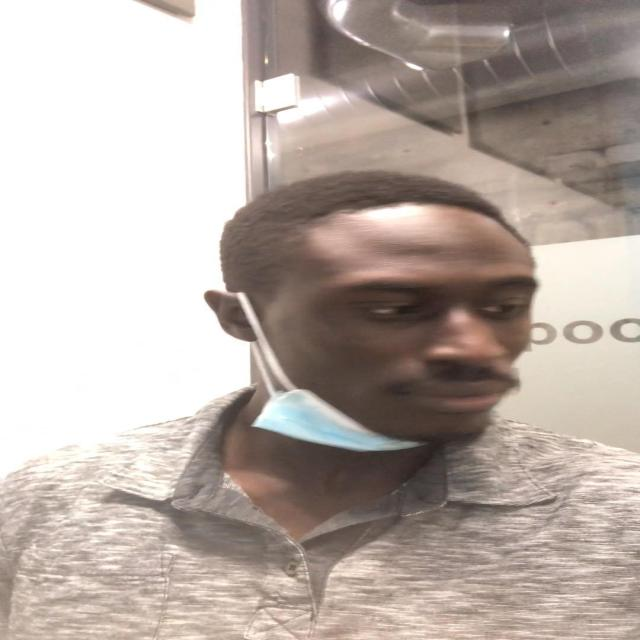face: (292, 218, 540, 442)
